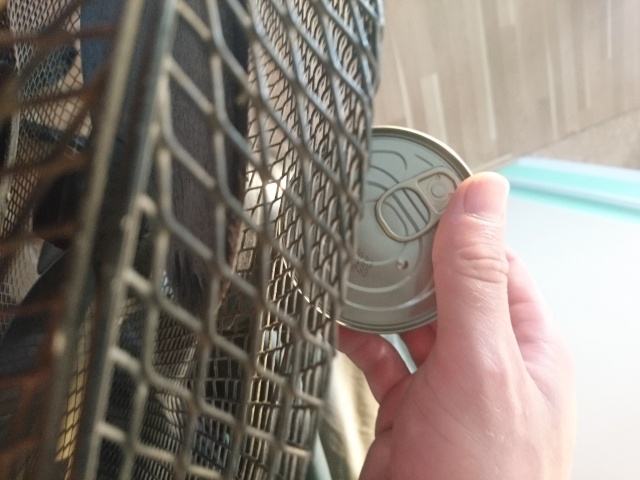Podravka Luncheon Meat 150g: (272, 122, 494, 338)
